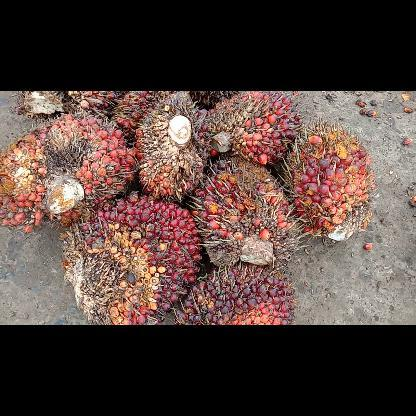TBS masak: (64, 194, 204, 324), (3, 112, 139, 224), (278, 121, 376, 243), (192, 160, 302, 267), (136, 91, 214, 201), (208, 92, 306, 170), (172, 265, 302, 323)
